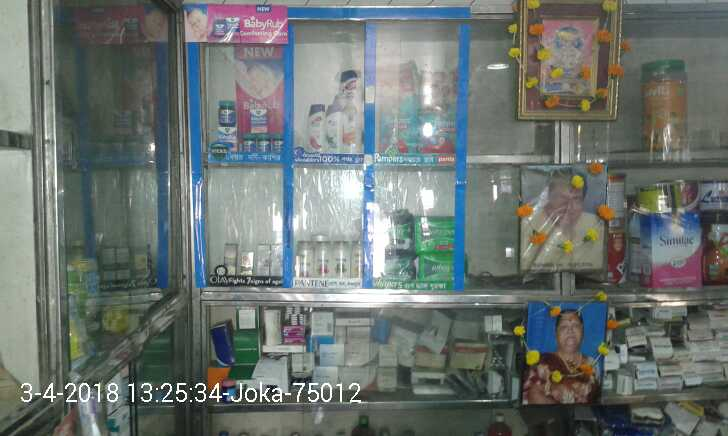vicks: (215, 100, 284, 156)
